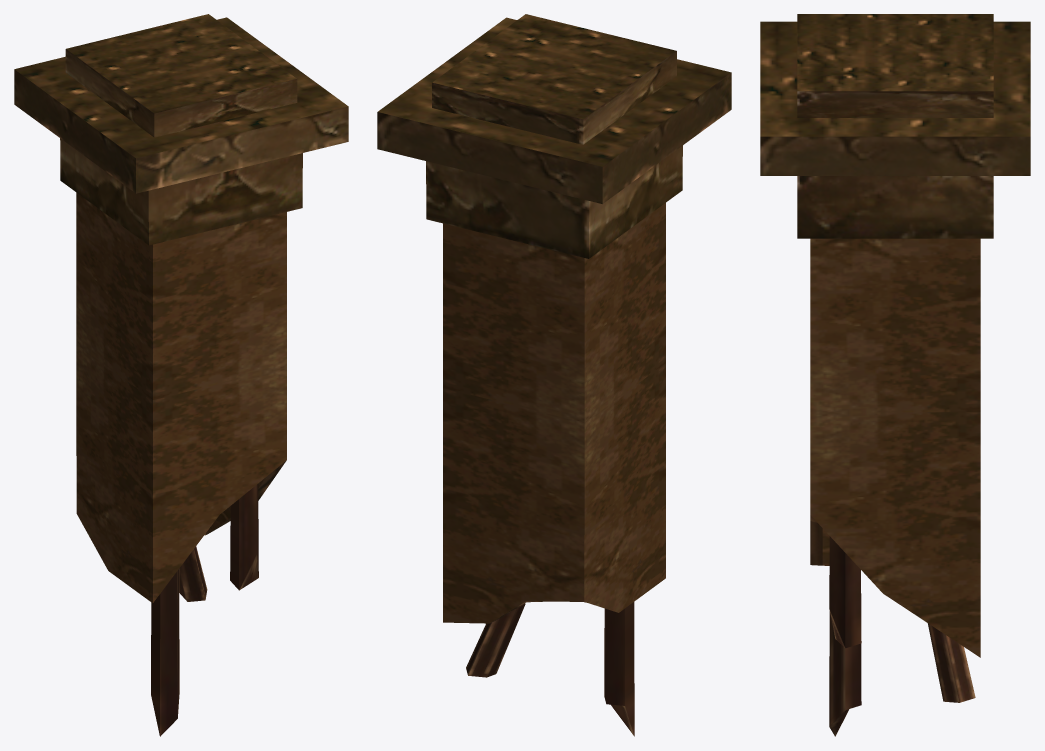
File: Scene_shizhu_006.FBX
The picture shows the model from 3 angles, left to right: view 1: azimuth 30°, elevation 25°; view 2: azimuth 150°, elevation 25°; view 3: azimuth 270°, elevation 25°; orthographic projection. The views are drawn at different scales.
Visible parts, largest first — view 1: Scene_shizhu_006; view 2: Scene_shizhu_006; view 3: Scene_shizhu_006.
Part boxes in pixels (x1,y1,x2,y2): Scene_shizhu_006: (14, 14, 348, 736); Scene_shizhu_006: (377, 14, 731, 736); Scene_shizhu_006: (760, 14, 1030, 736).
Bounding box in the file's own units: 2.38 × 6.86 × 2.36.
